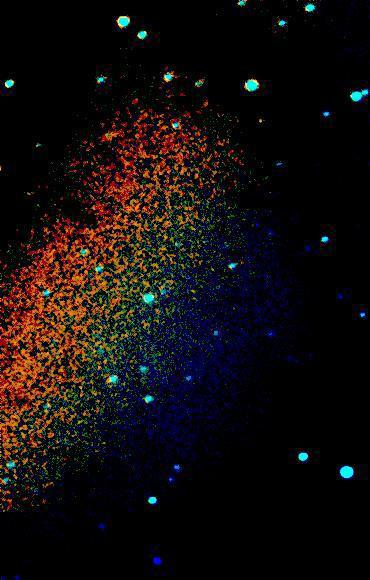star: (248, 106, 278, 136)
